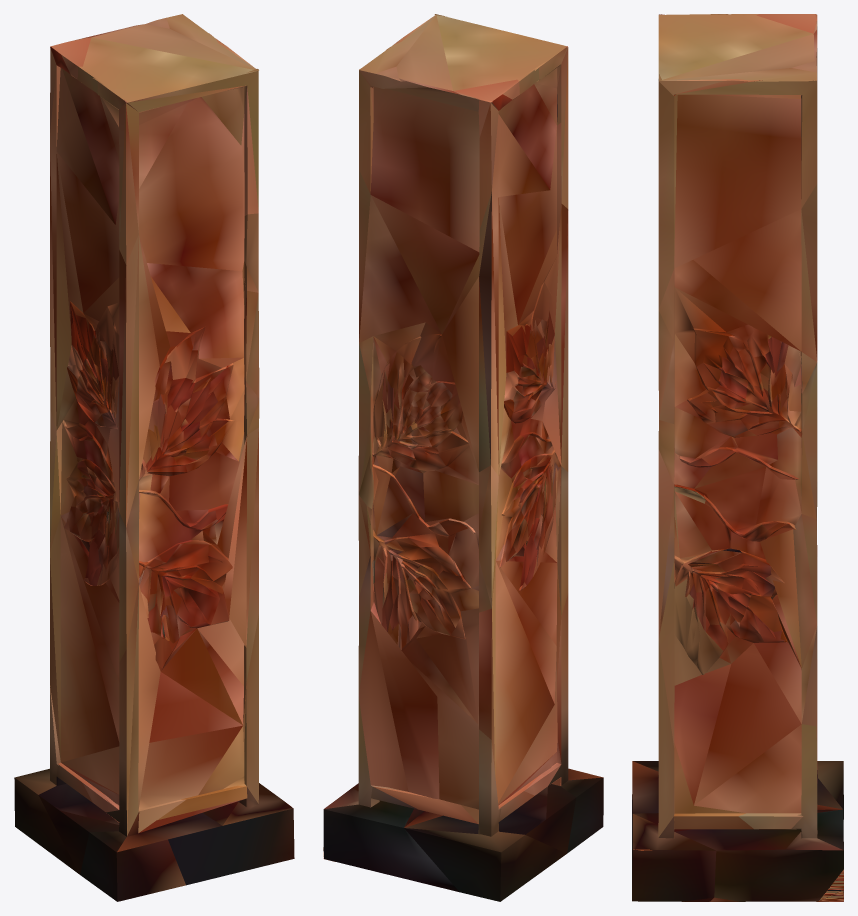
Rendered from terracoTotem-medio.glb.
The picture shows the model from 3 angles, left to right: view 1: azimuth 30°, elevation 25°; view 2: azimuth 150°, elevation 25°; view 3: azimuth 270°, elevation 25°; orthographic projection. The views are drawn at different scales.
Size of the model in its own units: 0.4516 by 1.9 by 0.4512.
1 material, 1 textured.
